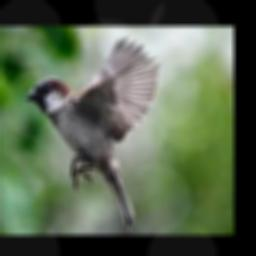Sparrow: (27, 36, 160, 228)
